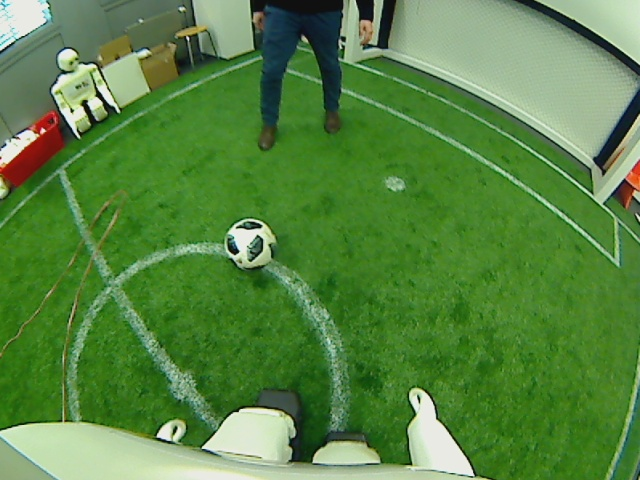ball: (223, 215, 275, 272)
